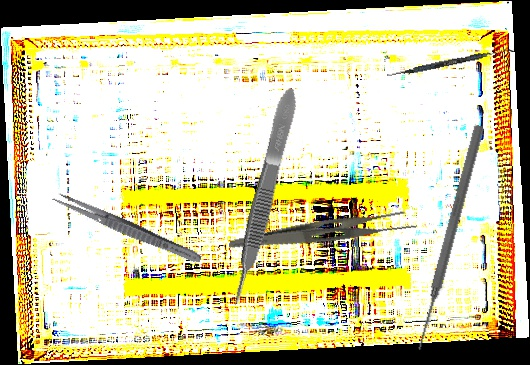Dressing Forceps: (227, 200, 419, 270), (50, 189, 204, 267)
Pusher: (411, 123, 487, 354)
Spatula Surgical: (386, 44, 515, 81)
Tissue Forceps: (223, 85, 303, 309)
